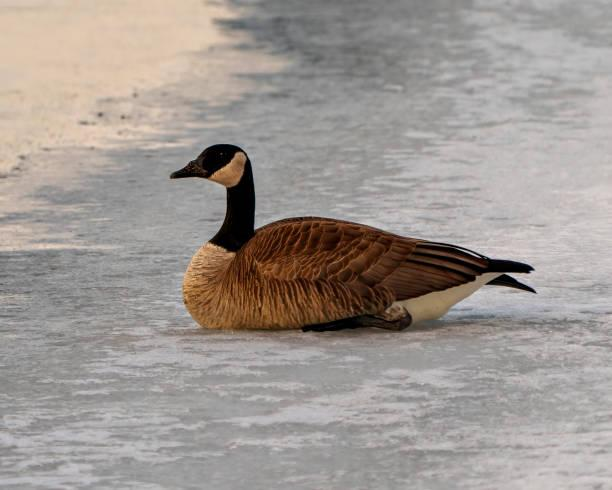Canadian-Goose: (170, 143, 537, 337)
